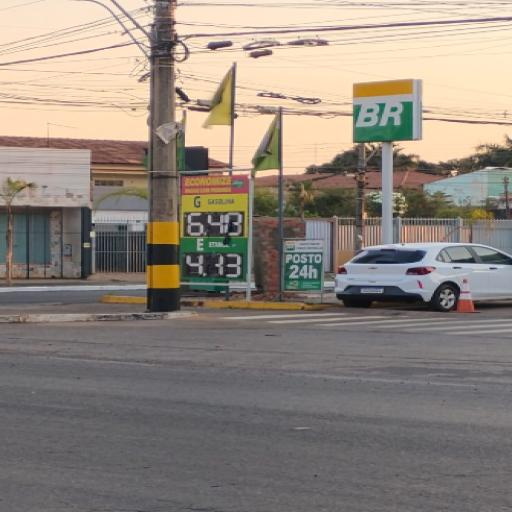ETANOL: (185, 238, 242, 253)
GASOLINA C: (189, 193, 241, 210)
placa: (180, 175, 248, 282)
preco: (185, 211, 244, 237), (184, 252, 243, 278)
